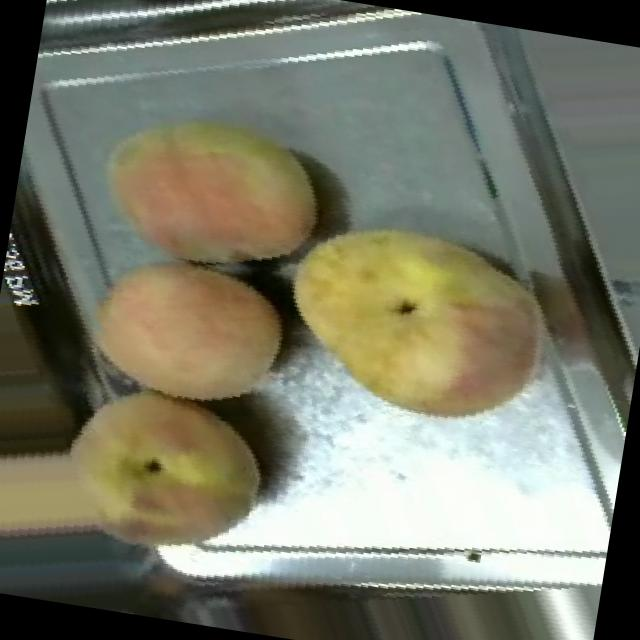Fruit: (236, 159, 594, 464), (0, 329, 303, 617), (60, 63, 359, 291), (47, 228, 320, 448)
